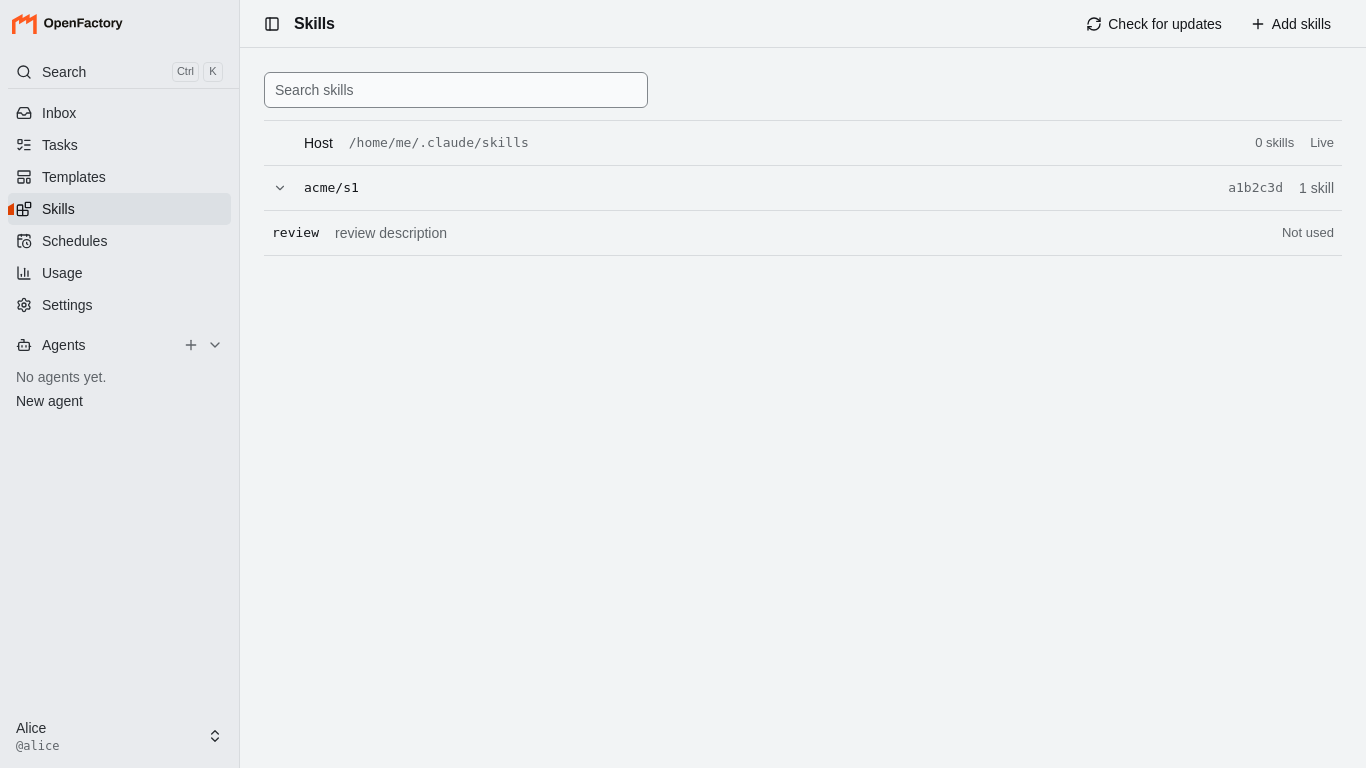
a hook command with a bidi override shows it as a visible token
Click the button "review review description Not used" at (295,232), box [264, 211, 1342, 255]
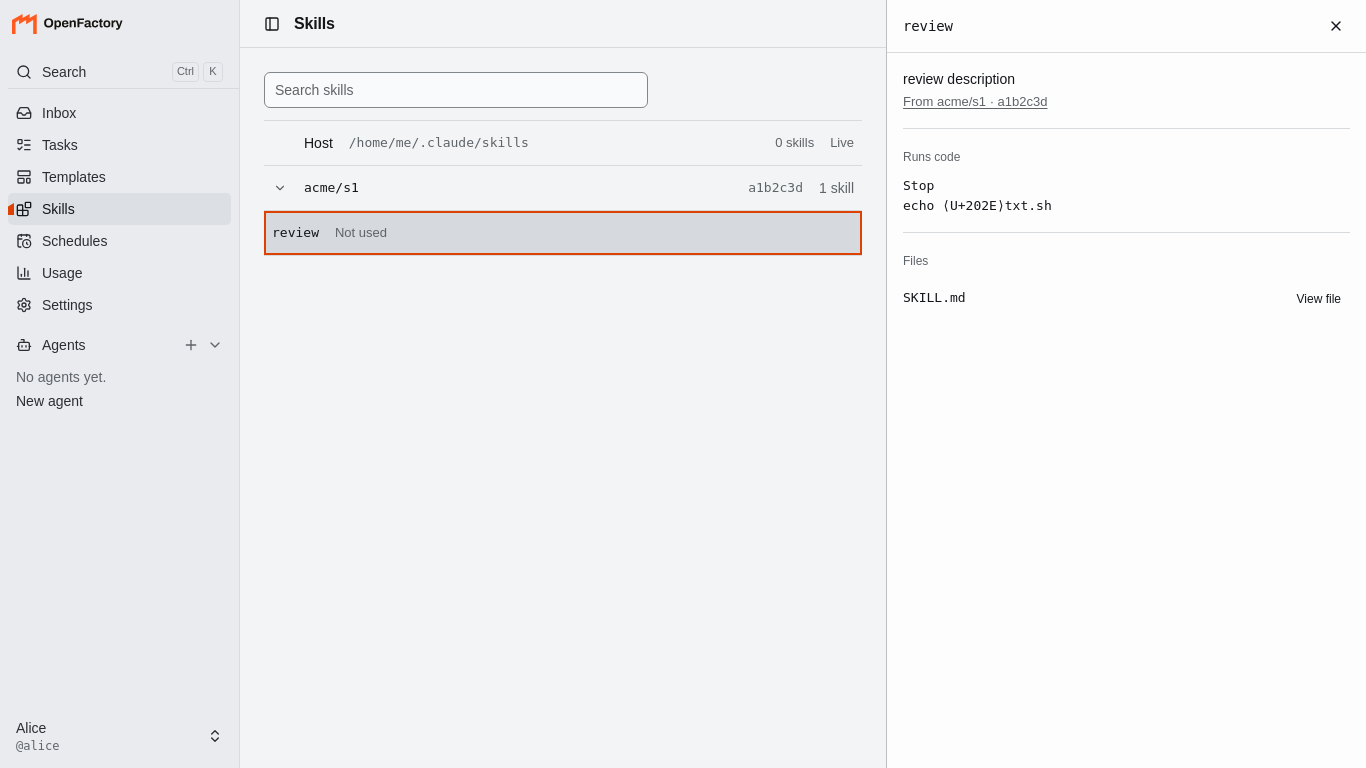
Expected: the heading named "review" is shown, [902, 17, 953, 34]
Expected: the text "echo ⟨U+202E⟩txt.sh" is shown, [903, 198, 1052, 213]
